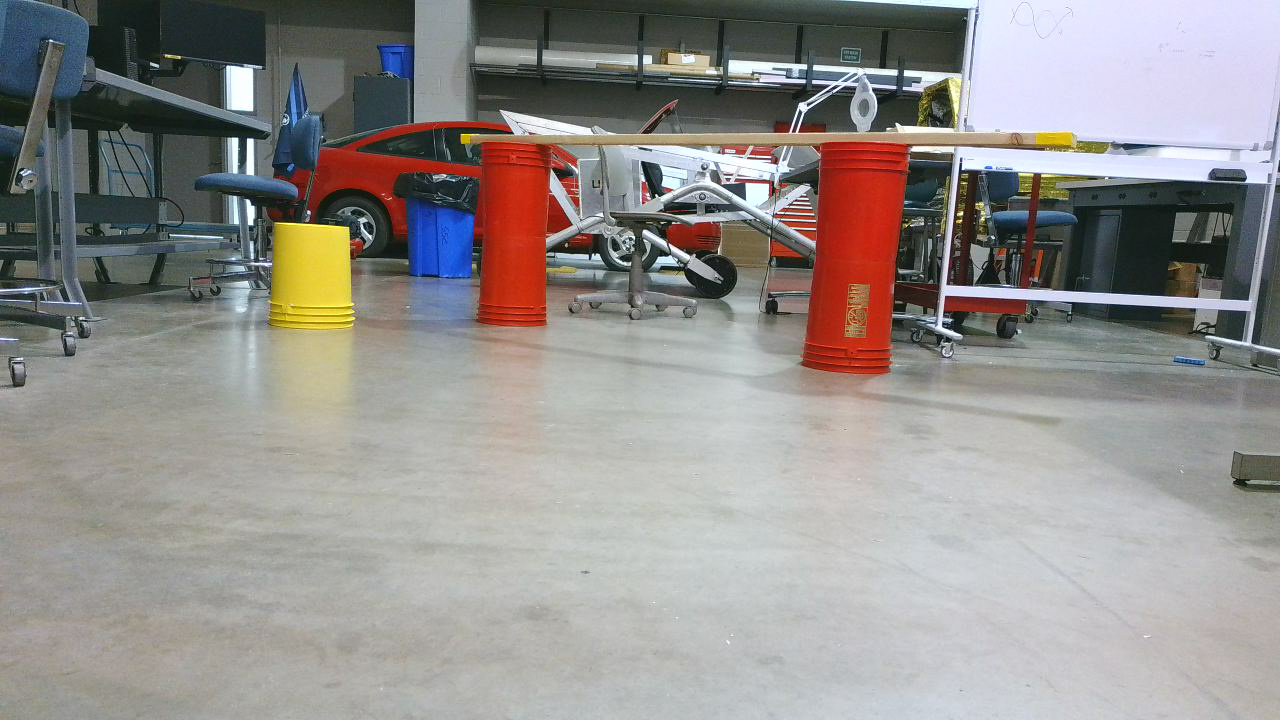red_bucket_arch: (486, 146, 899, 381)
yellow_bucket: (281, 227, 357, 331)
